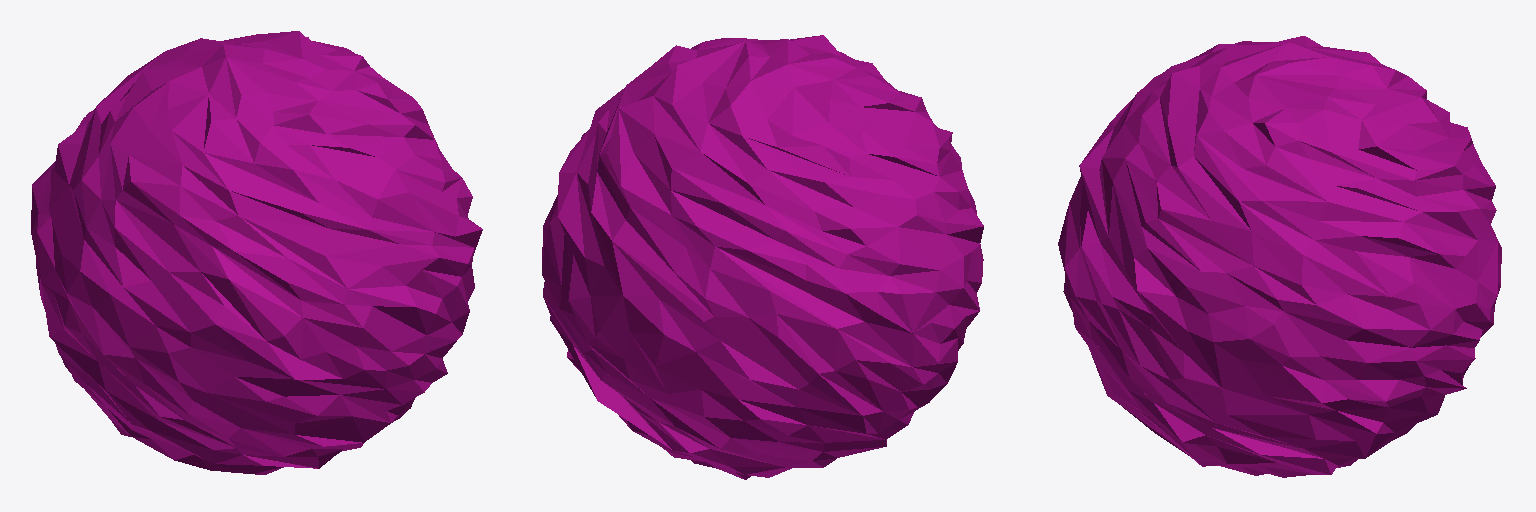
File: Neptune.obj
The picture shows the model from 3 angles: view 1: azimuth 30°, elevation 25°; view 2: azimuth 150°, elevation 25°; view 3: azimuth 270°, elevation 25°; orthographic projection.
Visible parts, largest first — view 1: Neptune; view 2: Neptune; view 3: Neptune.
Boxes of the visible parts, x1,y1,x2,y2 form: Neptune: [31, 31, 482, 474]; Neptune: [542, 35, 983, 479]; Neptune: [1058, 36, 1501, 477].
Size of the model in its own units: 35.61 by 35.61 by 35.55.